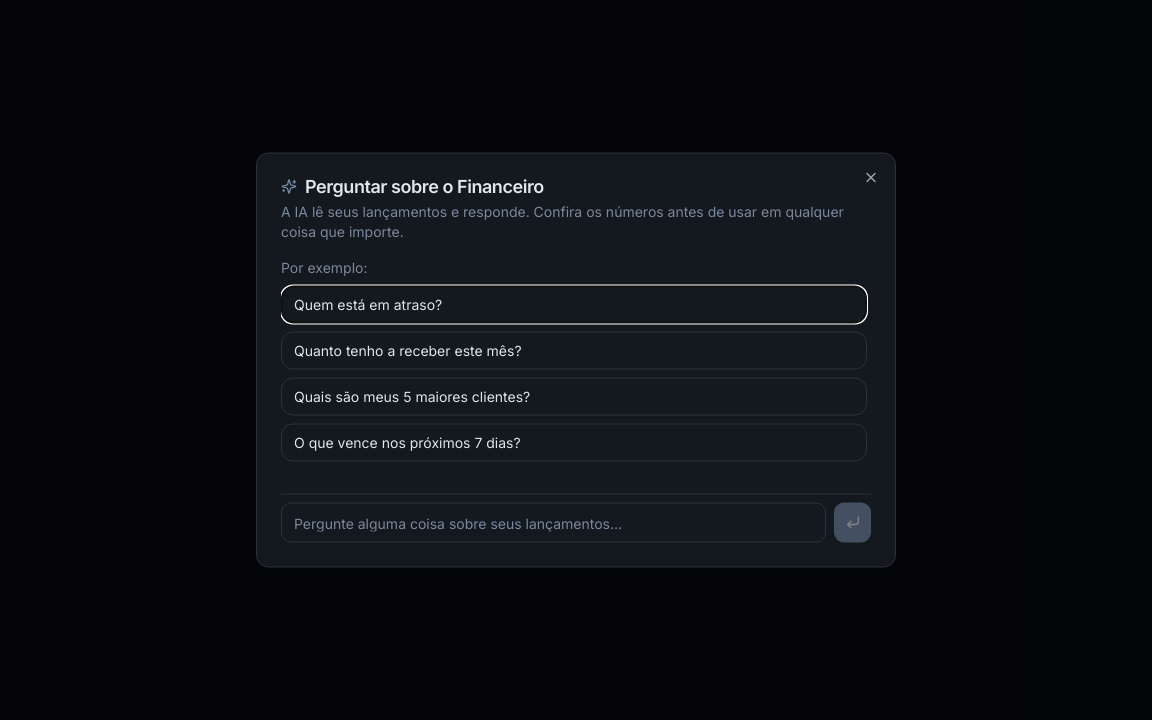
AssistenteFinanceiro › a pergunta fica na tela enquanto a IA responde
Later steps or results of the test are not shown.
Type "quanto a Corbis me deve?" into the field with placeholder "Pergunte alguma coisa sobre seus lançamentos…".
click(554, 522); type("quanto a Corbis me deve?")  # box [281, 502, 826, 542]
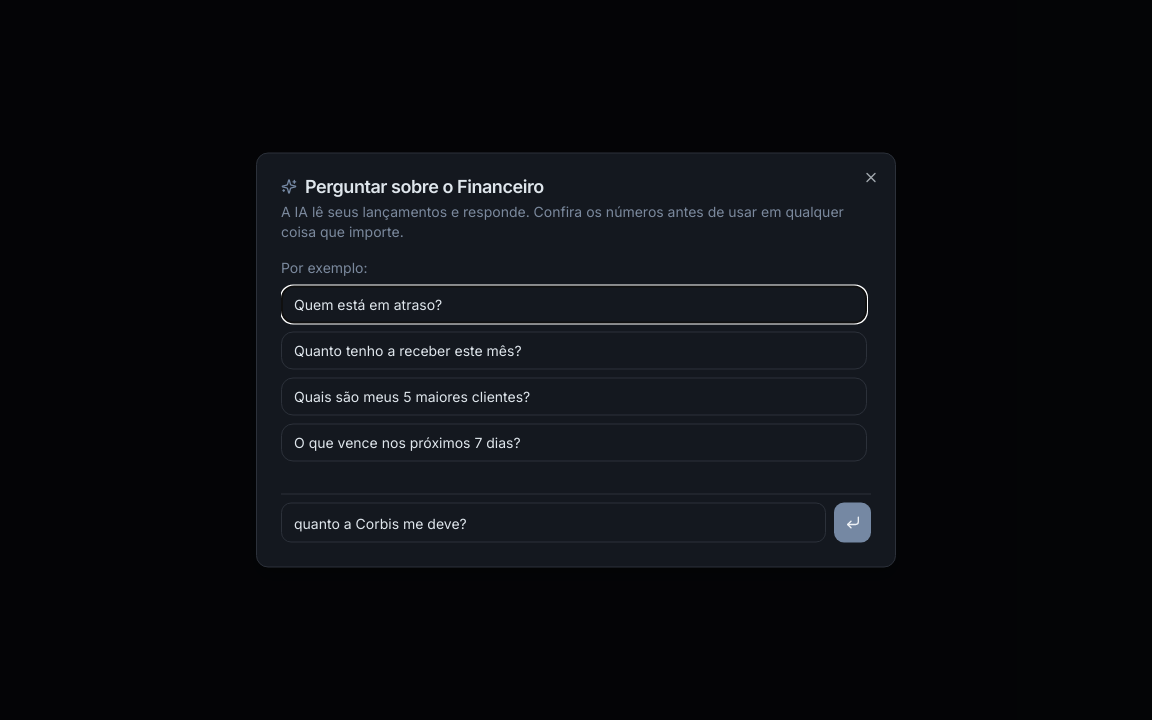
Press Enter in the field with placeholder "Pergunte alguma coisa sobre seus lançamentos…", box [281, 502, 826, 542]
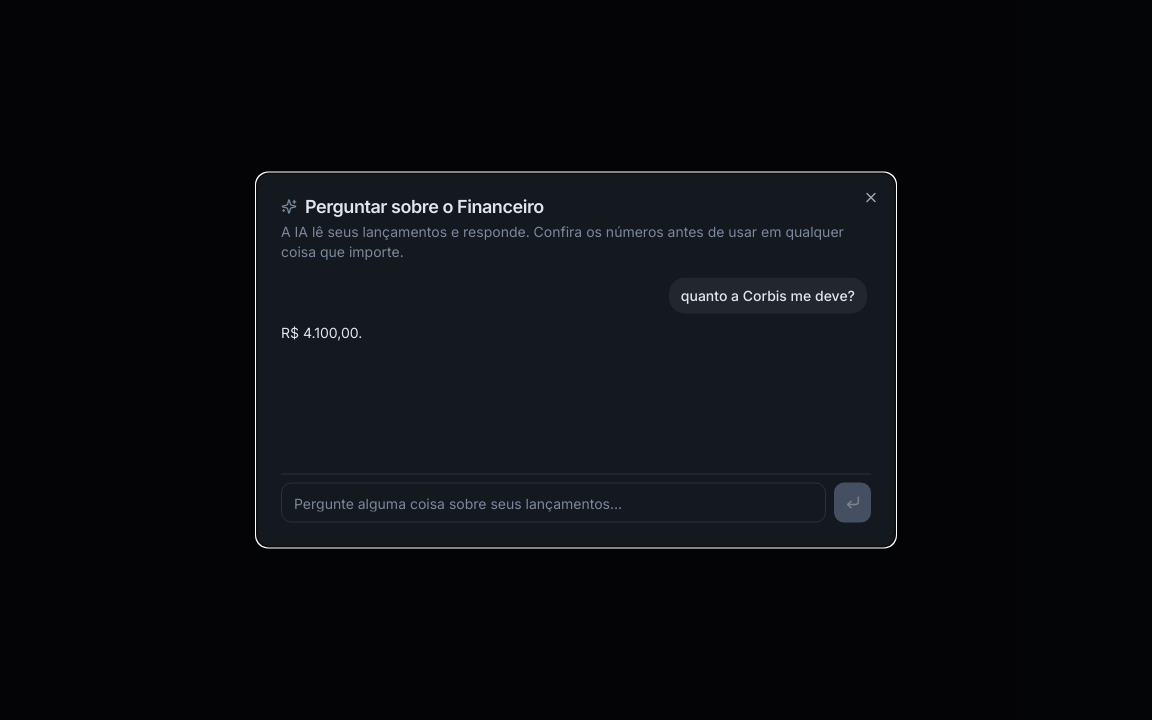
Now the text "quanto a Corbis me deve?" is shown, box [669, 278, 867, 314]
Now the text "R$ 4.100,00." is shown, box [281, 324, 362, 340]
